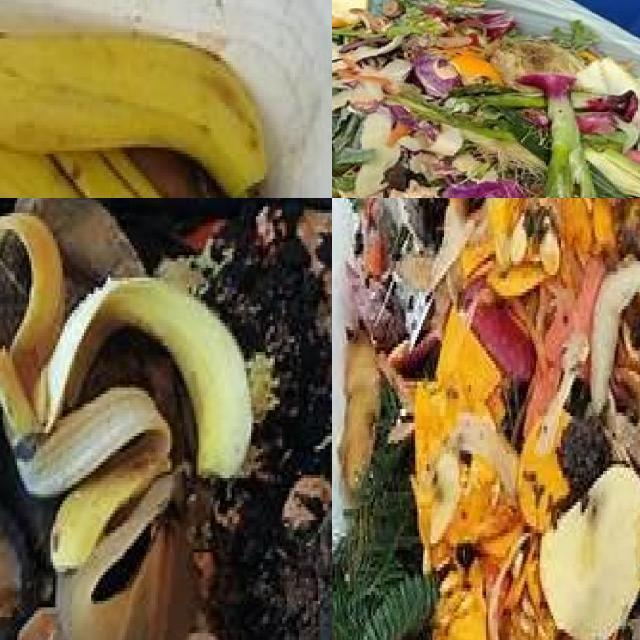Garbage: (0, 198, 332, 640), (332, 198, 640, 640), (332, 0, 640, 198)
Thermocol: (332, 198, 355, 552)
